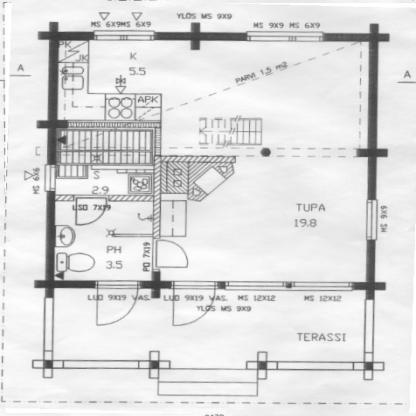bathroom: (53, 200, 156, 286)
door: (165, 278, 220, 330), (89, 279, 142, 330), (149, 238, 191, 273), (70, 195, 110, 227)
perimeter: (52, 34, 372, 287)
stairs: (54, 126, 160, 198)
window: (222, 274, 358, 298), (242, 25, 328, 48), (87, 25, 160, 46), (360, 197, 382, 244), (38, 162, 60, 196)
